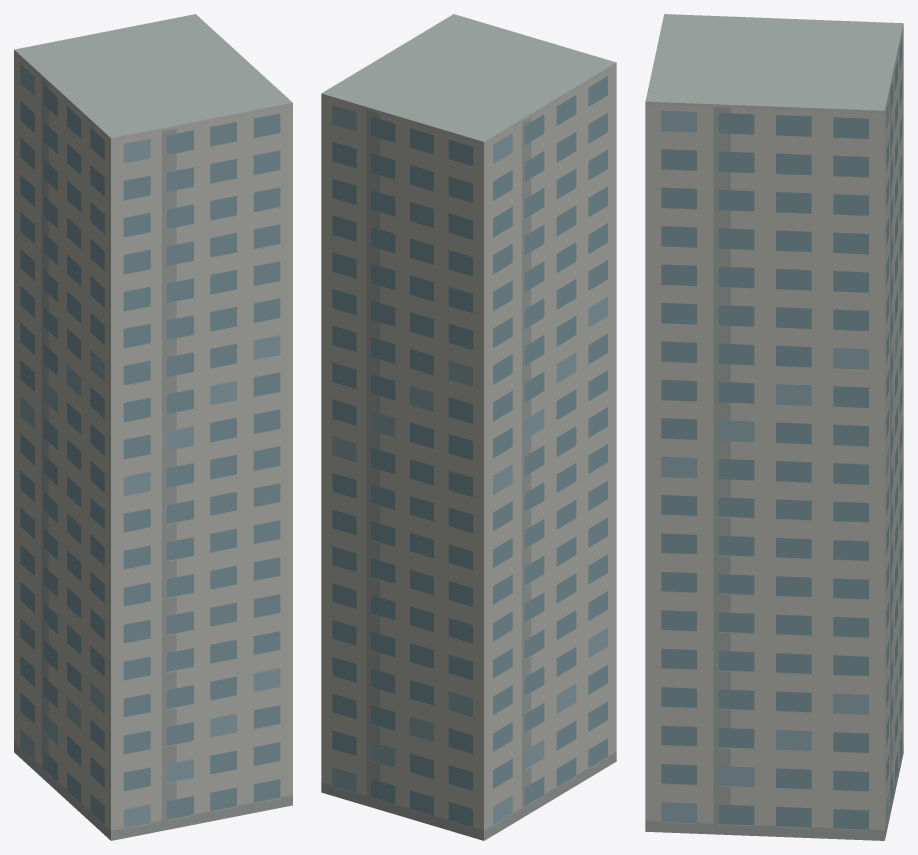
File: residential-d31b21ce-4cc8-49d6-abf7-aa212dccd36c.glb
3 views of the same model, side by side, from view 1: azimuth 30°, elevation 25°; view 2: azimuth 150°, elevation 25°; view 3: azimuth 270°, elevation 25° (orthographic). The views are drawn at different scales.
Parts seen in each view (by area): view 1: residential-d31b21ce-4cc8-49d6-abf7-aa212dccd36c.tmp; view 2: residential-d31b21ce-4cc8-49d6-abf7-aa212dccd36c.tmp; view 3: residential-d31b21ce-4cc8-49d6-abf7-aa212dccd36c.tmp.
Part boxes in pixels (bbox=[...]): residential-d31b21ce-4cc8-49d6-abf7-aa212dccd36c.tmp: bbox=[14, 14, 292, 840]; residential-d31b21ce-4cc8-49d6-abf7-aa212dccd36c.tmp: bbox=[321, 14, 616, 840]; residential-d31b21ce-4cc8-49d6-abf7-aa212dccd36c.tmp: bbox=[645, 14, 903, 840].
Bounding box in the file's own units: 16.21 × 57 × 18.27.
